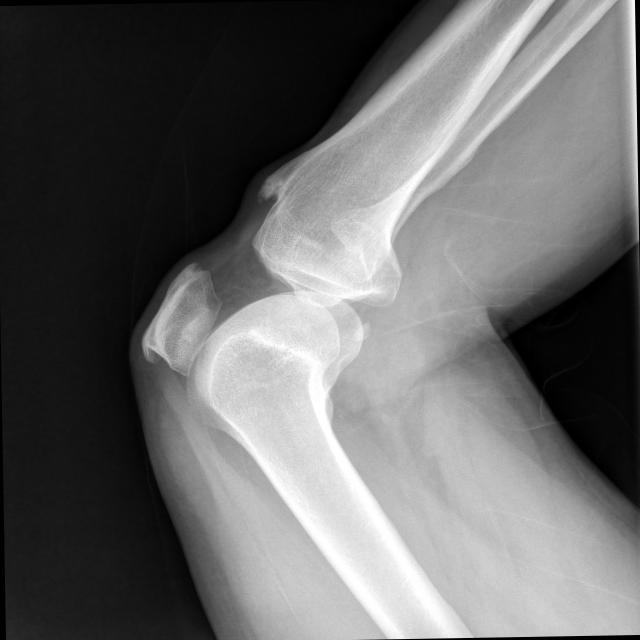Knee: (138, 208, 411, 404)
